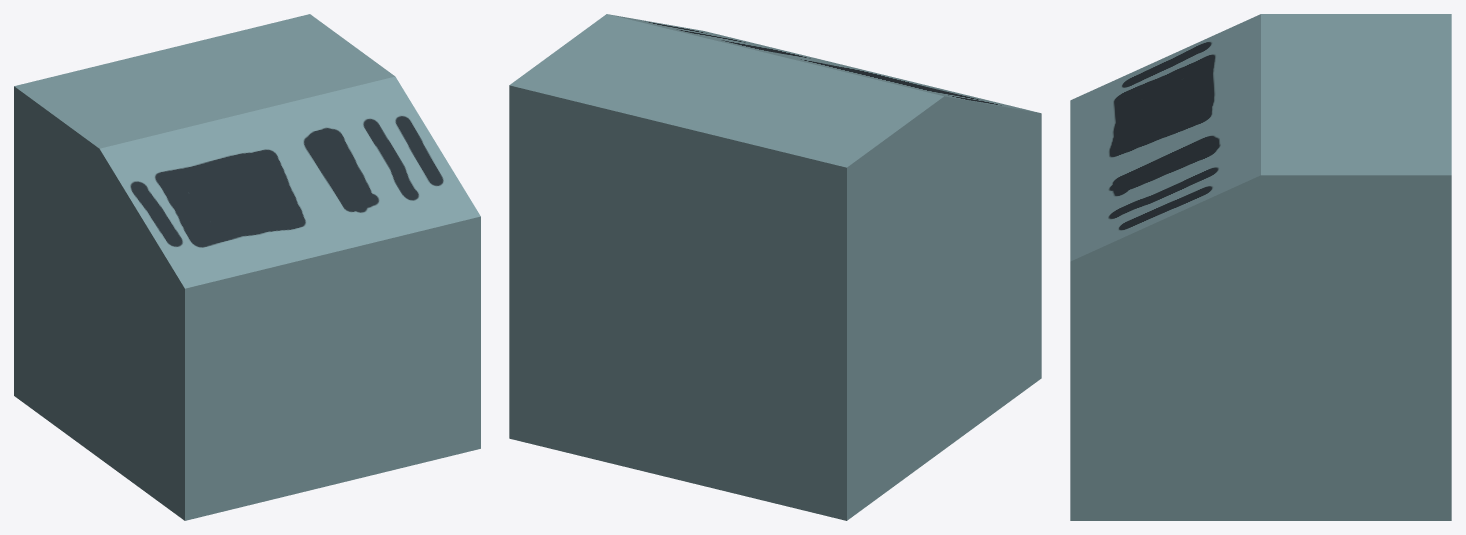
File: Shields-pc2.glb
3 renders of one model, left to right at view 1: azimuth 30°, elevation 25°; view 2: azimuth 150°, elevation 25°; view 3: azimuth 270°, elevation 25°, orthographic. The views are drawn at different scales.
Parts seen in each view (by area): view 1: Cube; view 2: Cube; view 3: Cube.
Boxes of the visible parts, x1,y1,x2,y2 form: Cube: (14,14,480,520); Cube: (509,14,1041,520); Cube: (1070,14,1451,520).
Bounding box in the file's own units: 2 × 2 × 2.
Materials: 1 (1 with a texture image).
